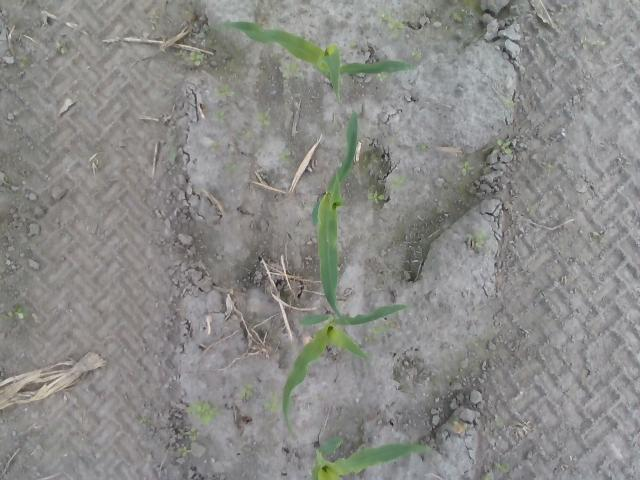Maize: (221, 18, 421, 102), (281, 304, 407, 434), (312, 110, 358, 319), (311, 435, 434, 480)
Weeds: (186, 400, 218, 425), (180, 52, 206, 68), (278, 62, 304, 78), (366, 188, 388, 204), (240, 384, 258, 402), (255, 110, 272, 126), (214, 84, 233, 98), (497, 140, 513, 156), (386, 16, 404, 30), (8, 306, 26, 320), (184, 428, 201, 441), (266, 395, 278, 412), (459, 160, 473, 174), (392, 176, 406, 189), (15, 56, 27, 69), (178, 447, 194, 456), (481, 471, 495, 480), (376, 72, 387, 82), (213, 110, 224, 120), (280, 150, 290, 161), (496, 463, 509, 471), (56, 42, 64, 54)
